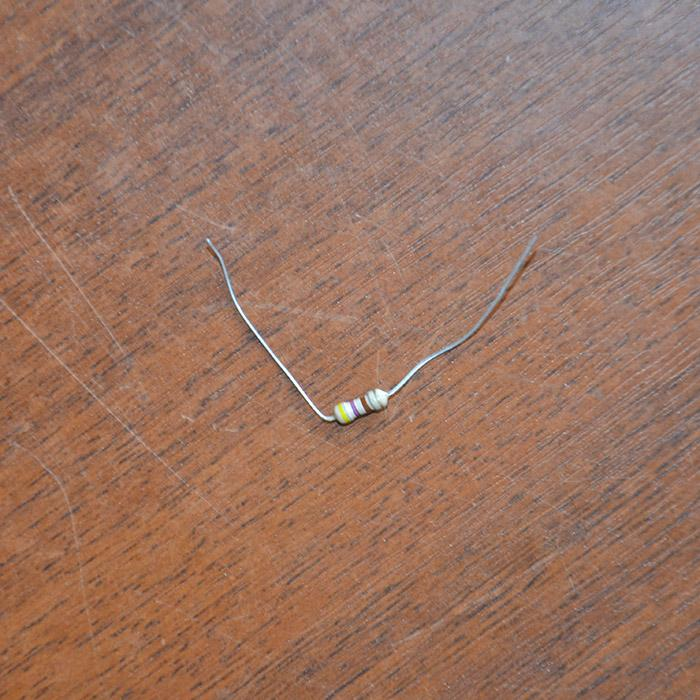resistor: (331, 388, 389, 425)
